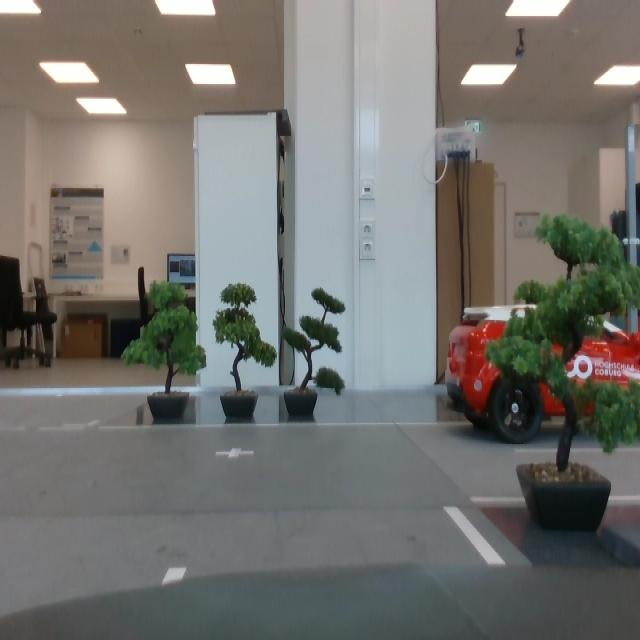car: (446, 304, 640, 444), (123, 281, 208, 420)
potted plant: (485, 212, 640, 472), (212, 281, 277, 418), (282, 286, 346, 416)
